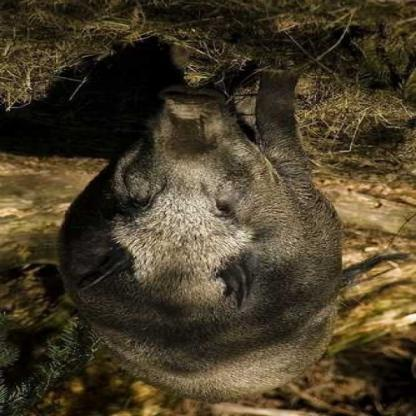boar: (84, 77, 343, 408)
